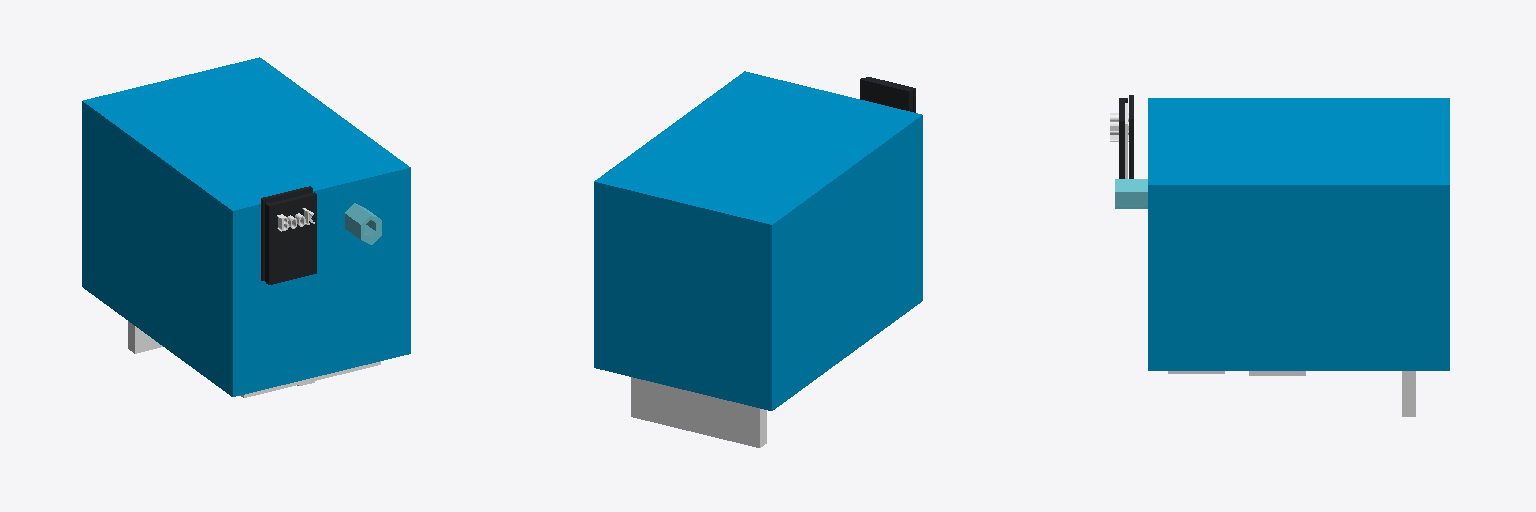
The model's file is tinker.obj.
The picture shows the model from 3 angles: view 1: azimuth 30°, elevation 25°; view 2: azimuth 150°, elevation 25°; view 3: azimuth 270°, elevation 25°; orthographic projection.
Visible parts, largest first — view 1: obj_0; view 2: obj_0; view 3: obj_0.
Boxes of the visible parts, x1,y1,x2,y2 form: obj_0: [82, 57, 410, 397]; obj_0: [594, 71, 922, 447]; obj_0: [1110, 95, 1449, 416].
Size of the model in its own units: 43 by 59 by 71.